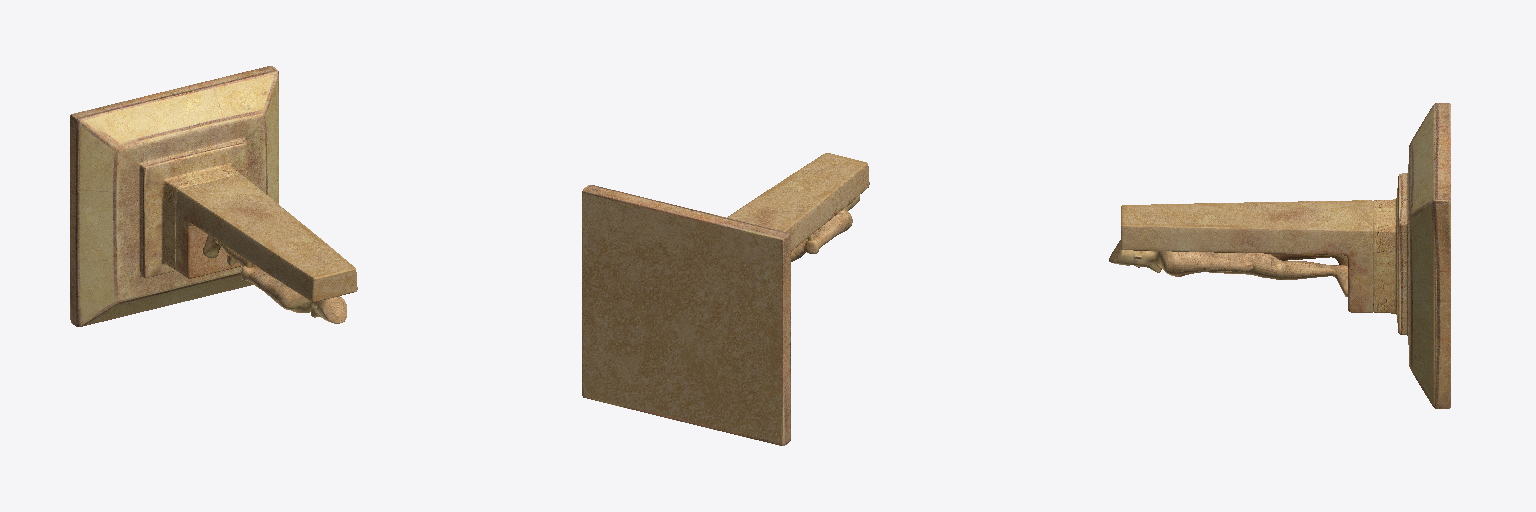
3 renders of one model, left to right at view 1: azimuth 30°, elevation 25°; view 2: azimuth 150°, elevation 25°; view 3: azimuth 270°, elevation 25°, orthographic.
Visible parts, largest first — view 1: postament, faraon; view 2: postament, faraon; view 3: postament, faraon.
Boxes of the visible parts, x1=… form: postament: x1=70, y1=66, x2=357, y2=326; faraon: x1=203, y1=235, x2=346, y2=323; postament: x1=582, y1=153, x2=869, y2=445; faraon: x1=791, y1=195, x2=859, y2=261; postament: x1=1121, y1=103, x2=1450, y2=408; faraon: x1=1109, y1=240, x2=1347, y2=296.
Bounding box in the file's own units: 455 × 447 × 665.
2 materials, 2 textured.